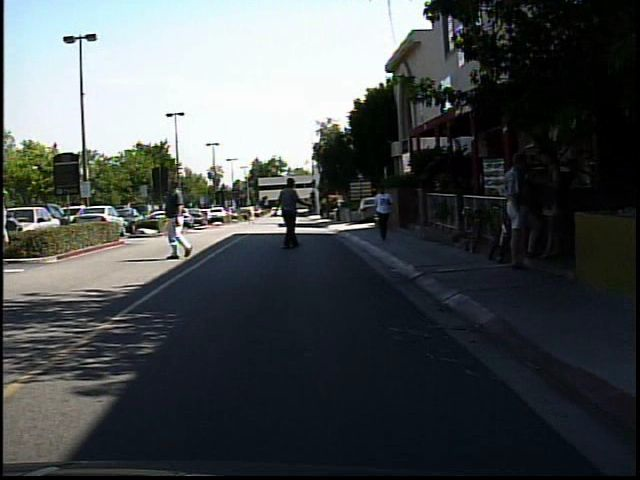person: (501, 144, 542, 273), (532, 147, 566, 265), (160, 174, 198, 262), (272, 173, 313, 252), (368, 179, 398, 244), (2, 183, 22, 270), (162, 198, 178, 230), (245, 202, 260, 227)
